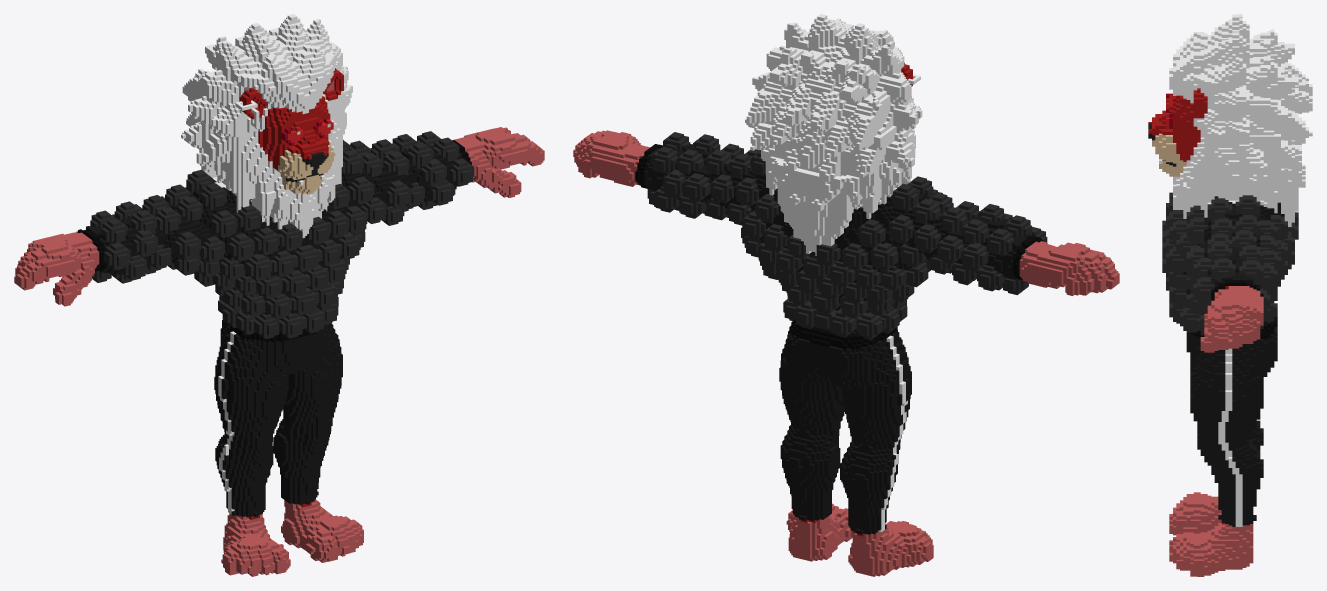
File: 945-DdtYNJ9t.fbx
3 renders of one model, left to right at view 1: azimuth 30°, elevation 25°; view 2: azimuth 150°, elevation 25°; view 3: azimuth 270°, elevation 25°, orthographic. The views are drawn at different scales.
Parts seen in each view (by area): view 1: standard; view 2: standard; view 3: standard.
Part boxes in pixels (x1,y1,x2,y2): standard: (14, 14, 544, 576); standard: (573, 14, 1119, 576); standard: (1148, 14, 1312, 576).
Size of the model in its own units: 17.2 by 16.5 by 4.7.
Materials: 6 (6 with a texture image).
